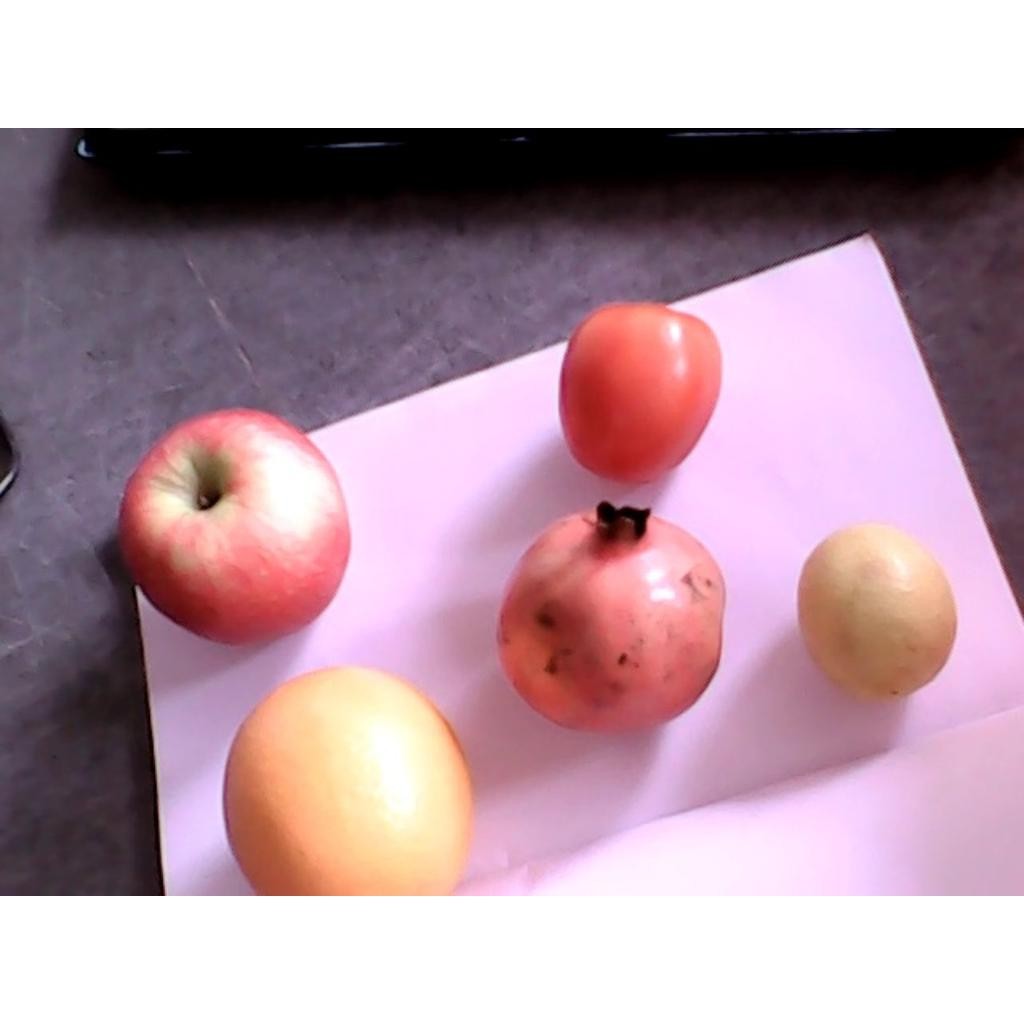apple: (120, 407, 350, 644)
lemon: (795, 524, 957, 701)
orange: (223, 667, 474, 894)
pomegranate: (494, 499, 725, 732)
tomato: (558, 298, 723, 486)
